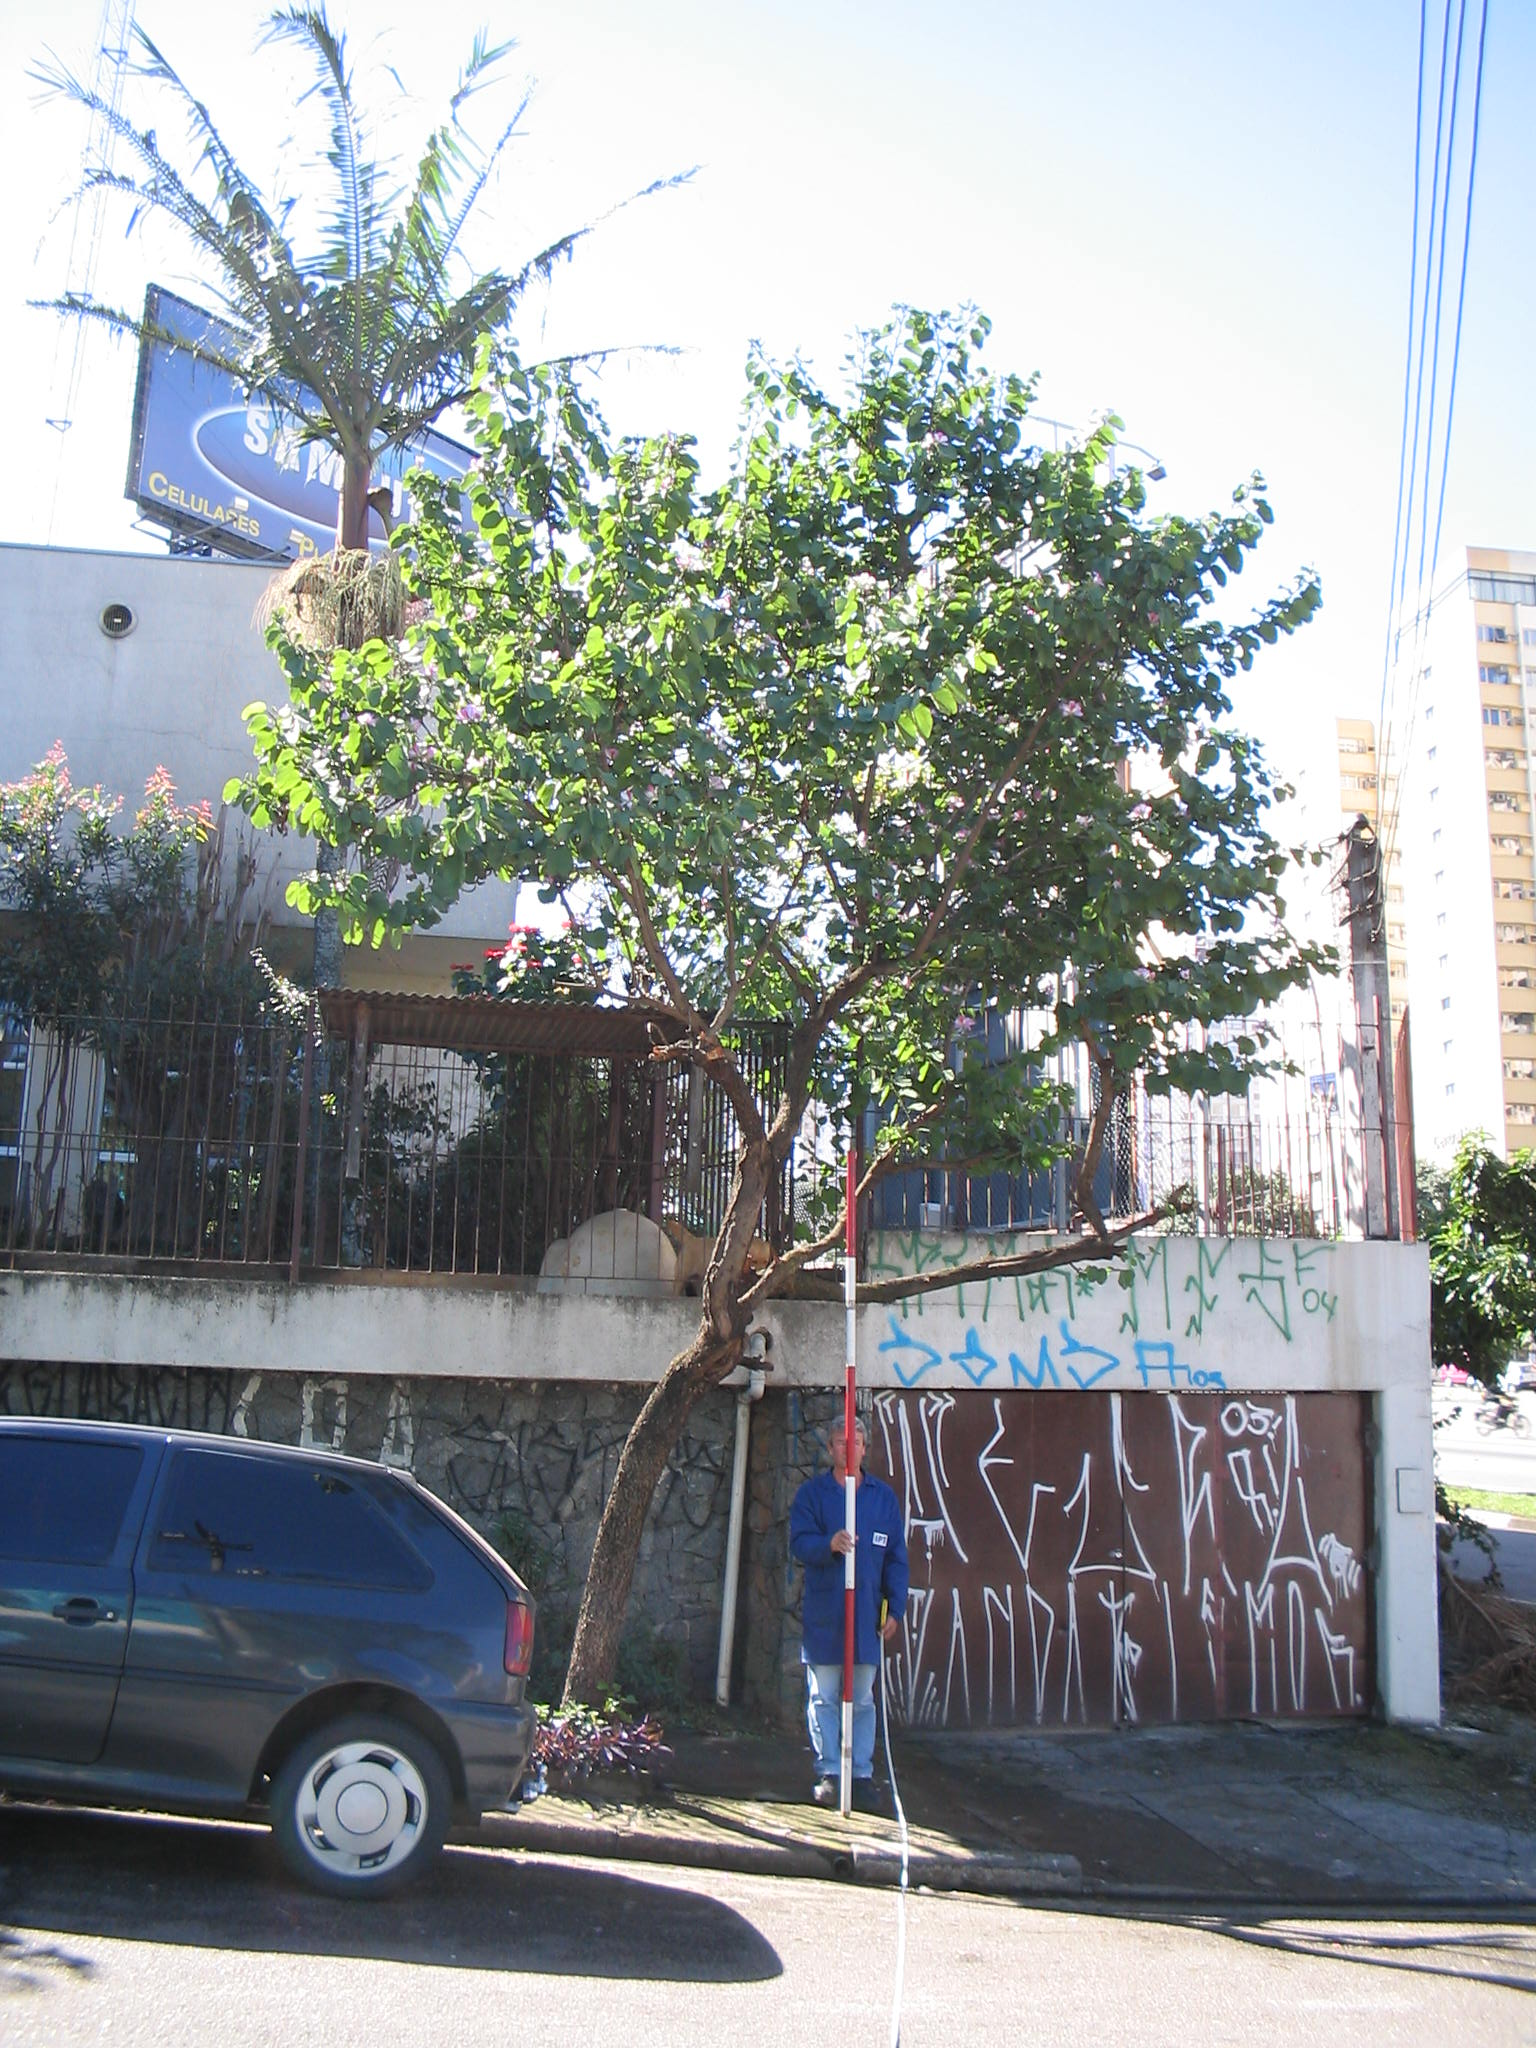crown: (240, 318, 1329, 1201)
stem: (536, 1301, 779, 1743)
stick: (812, 1147, 878, 1816)
tree: (224, 302, 1347, 1764)
